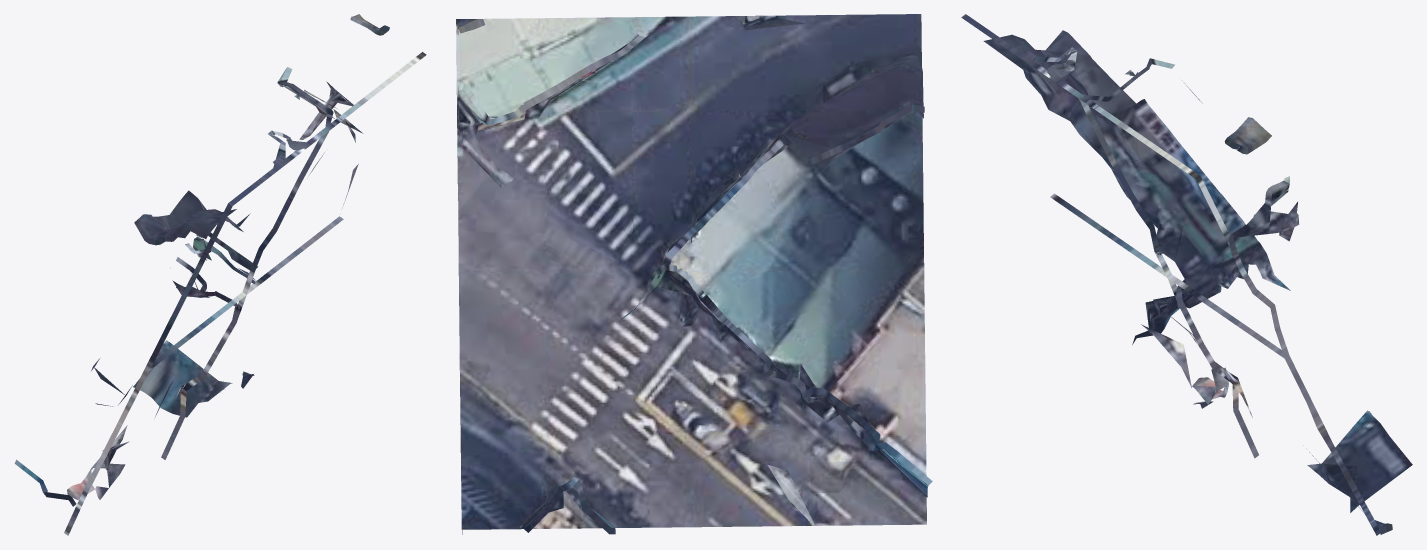
The picture shows the model from 3 angles, left to right: view 1: azimuth 30°, elevation 25°; view 2: azimuth 150°, elevation 25°; view 3: azimuth 270°, elevation 25°; orthographic projection. The views are drawn at different scales.
Bounding box in the file's own units: 40.8 × 37.49 × 34.86.
1 material, 1 textured.
